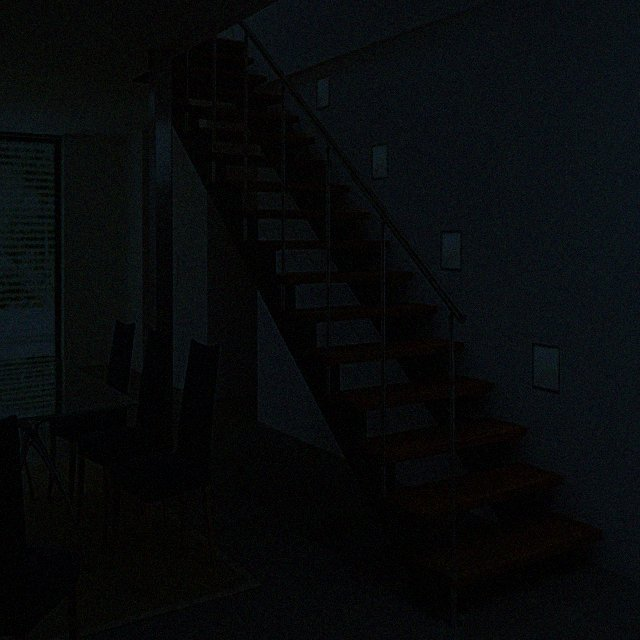stair: (170, 22, 601, 617)
